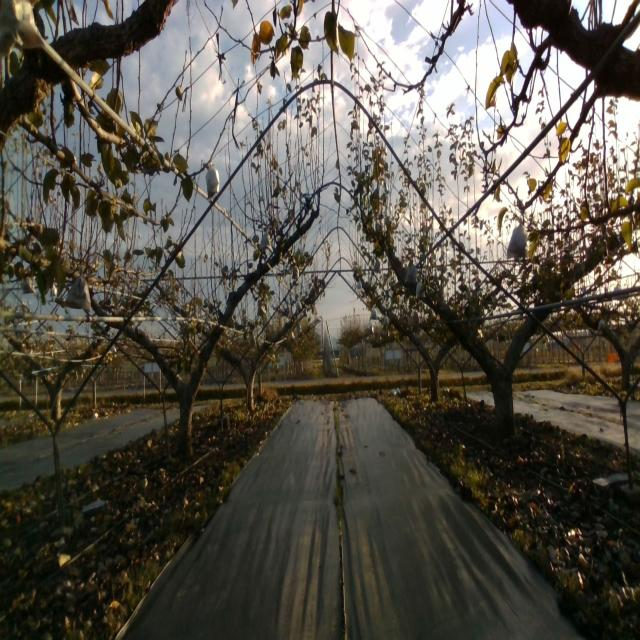pearbags: (0, 0, 47, 57), (506, 218, 530, 260), (205, 160, 220, 198), (259, 228, 273, 253), (404, 258, 417, 284)
